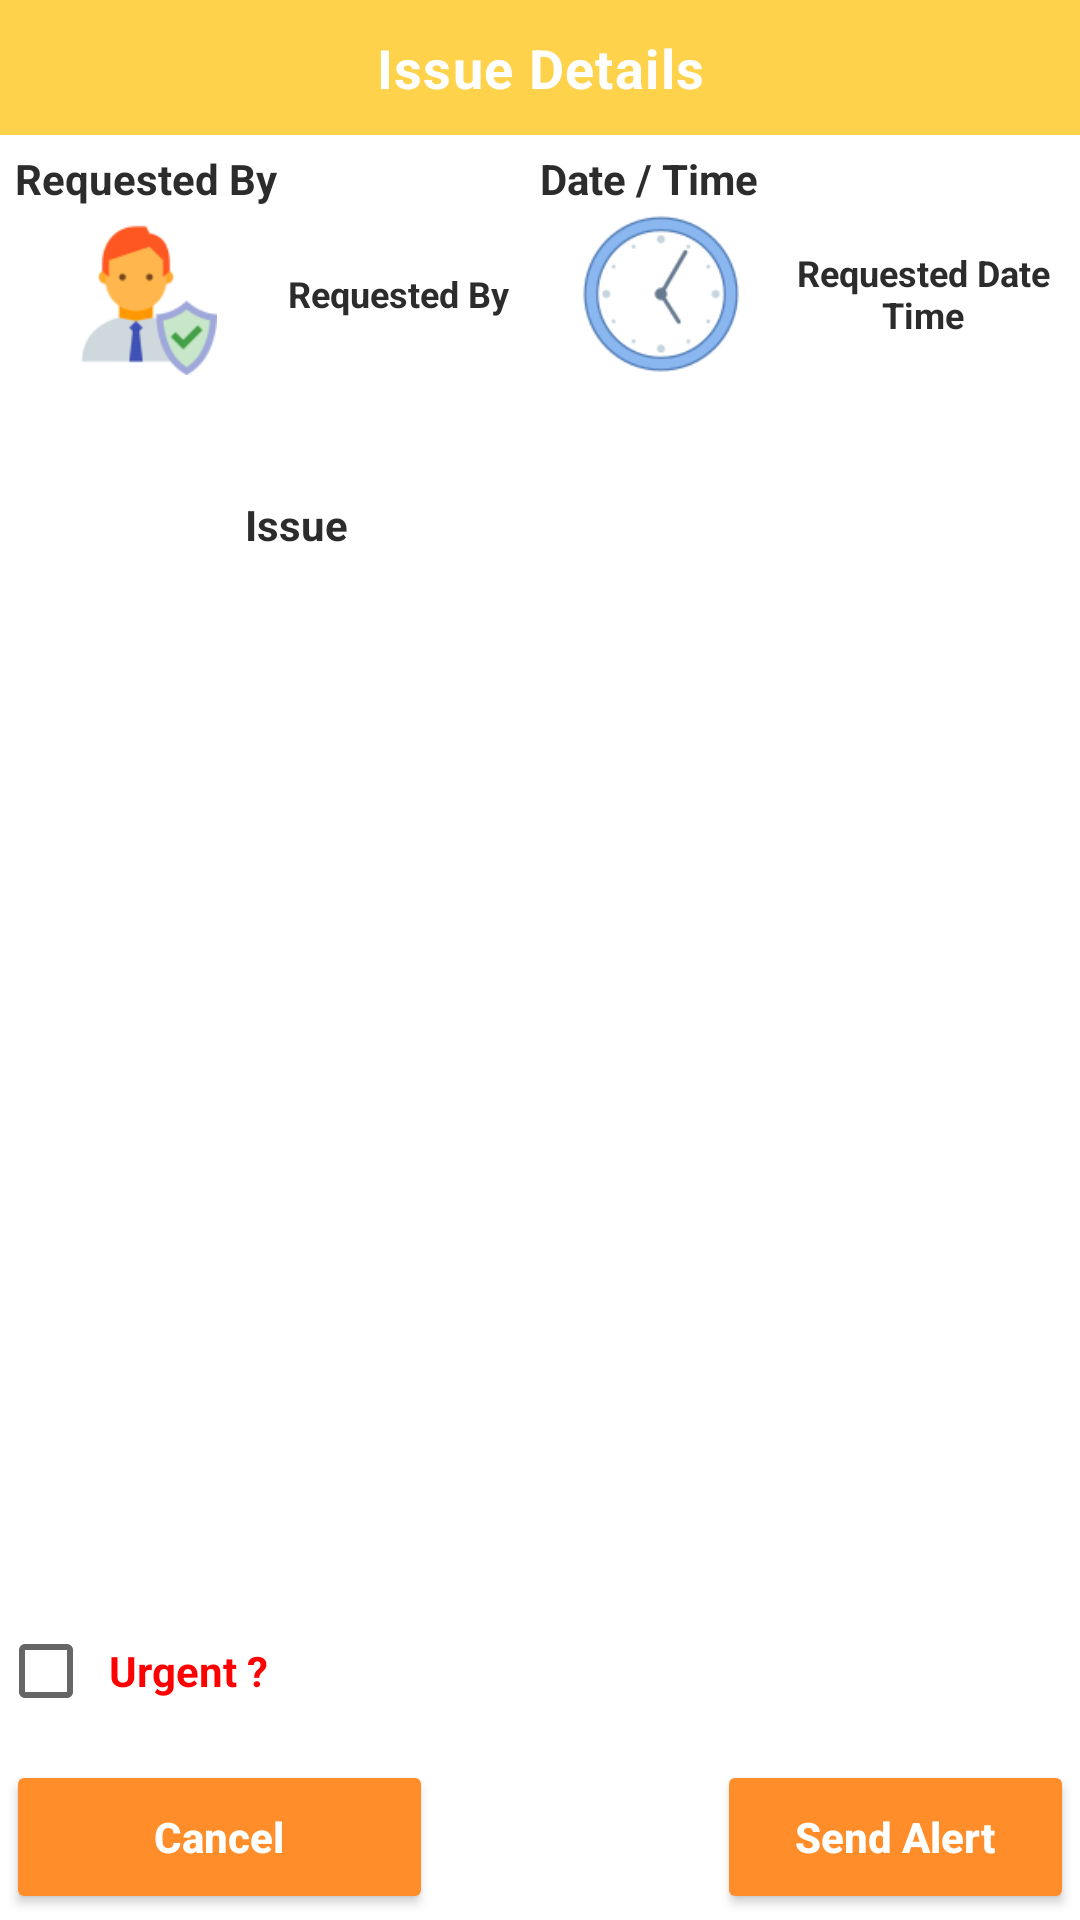

Named icons in this screenshot (1080 x 1920) and their centers, (x,y):
clock: (661,294)
person: (149,300)
